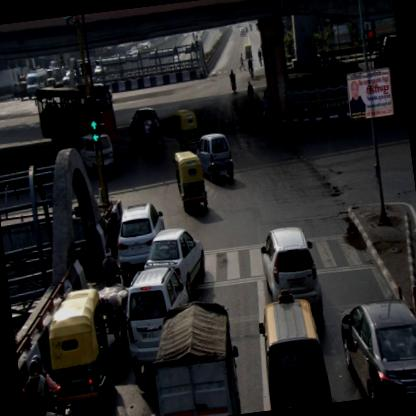bus: (36, 77, 118, 149), (24, 63, 50, 101)
car: (251, 286, 334, 410), (124, 265, 197, 381), (337, 295, 415, 400), (258, 224, 326, 328), (140, 222, 208, 302), (113, 202, 170, 281), (193, 131, 234, 186), (78, 132, 116, 180), (126, 107, 162, 144)
motorcycle: (17, 352, 65, 415), (226, 68, 239, 96)
truck: (146, 295, 246, 415)
